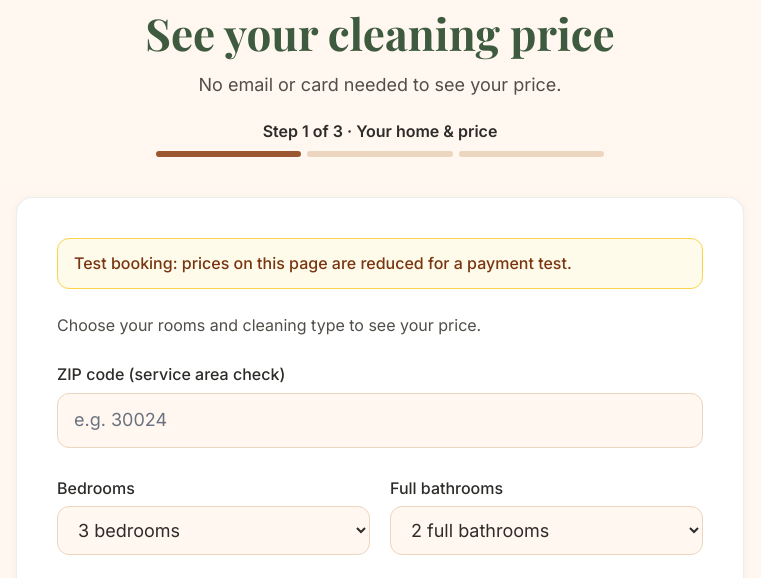
quote: test-price cap notice (ChatGPT #1) › shows no cap notice on step 1 before a ZIP is entered or for an out-of-area ZIP (audit 17.11)
In the field labelled "ZIP code (service area check)": (380, 420) [57,393,703,448], type "99999"
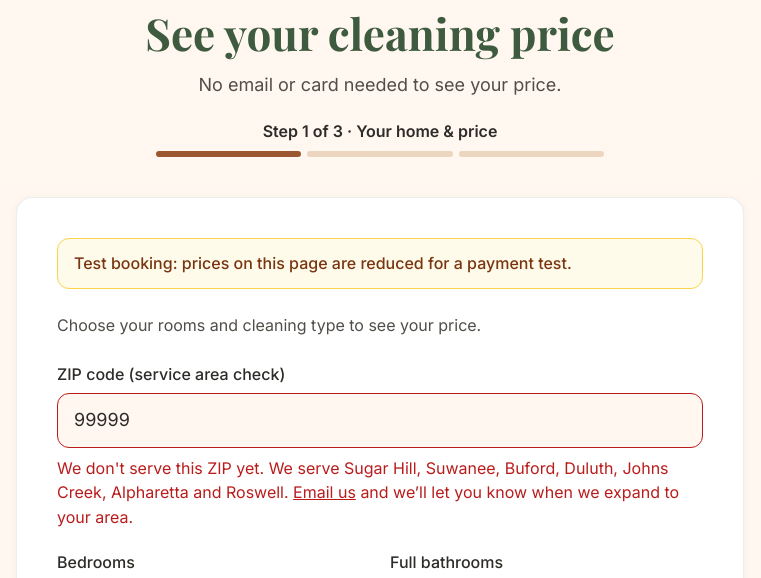
expect the text "We don't serve this ZIP yet" is shown 2 times: met
